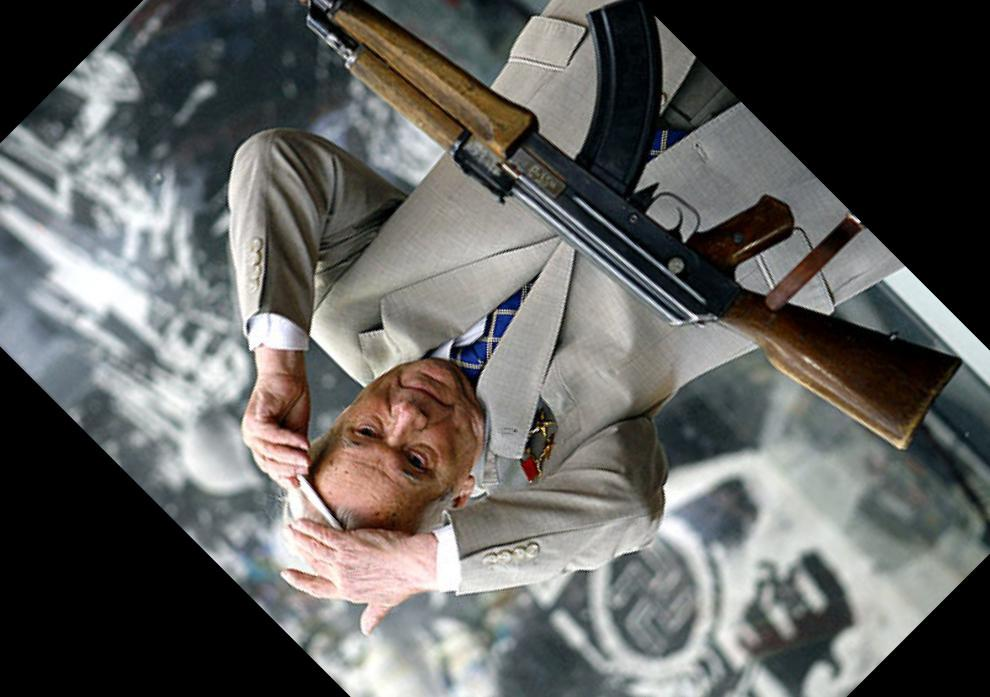larga: (293, 0, 967, 453)
